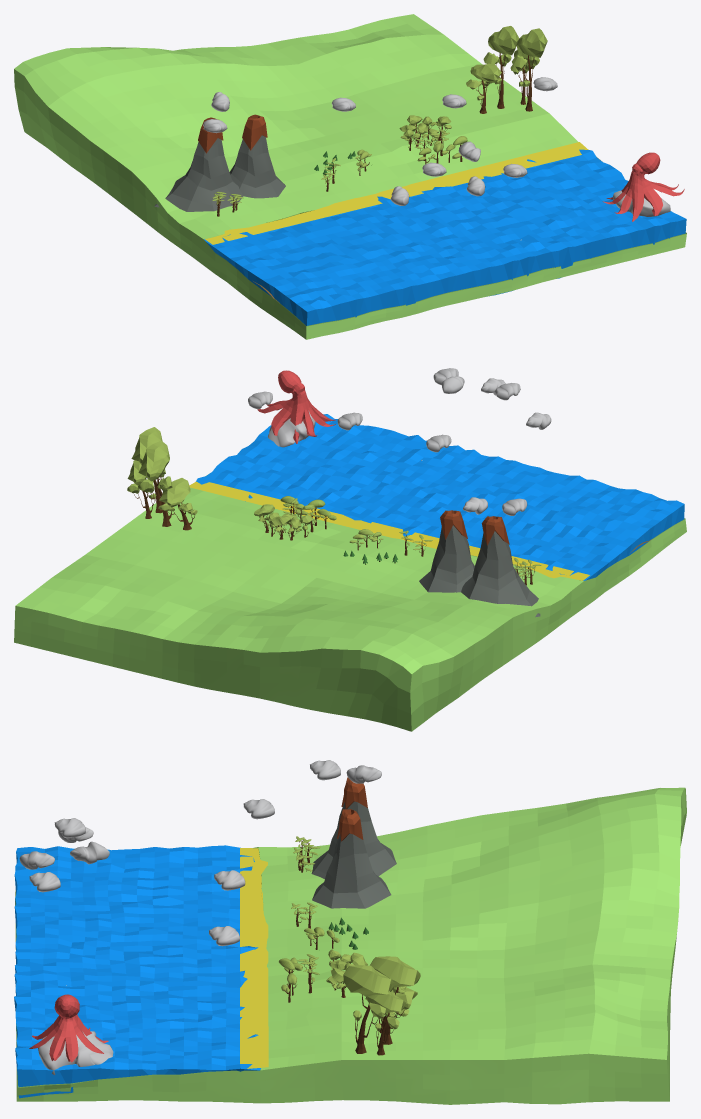
Rendered from land_final2_gltf.glb.
3 renders of one model, top to bottom at view 1: azimuth 30°, elevation 25°; view 2: azimuth 150°, elevation 25°; view 3: azimuth 270°, elevation 25°, orthographic. The views are drawn at different scales.
Visible parts, largest first — view 1: ground, seaWater, Plane, vulkaan|vulkaanTop_L_cyclus_vulkaan_model_v001.blend|Dupli|, vulkaan|vulkaanTop_L_cyclus_vulkaan_model_v001.blend|Dupli|., Mesh_0, boom4.005|CS_boom4_L_cyclus_boom4_model_v001.blend|Dupli|.00 (×2), boom4.005|CS_boom4_L_cyclus_boom4_model_v001.blend|Dupli|; view 2: ground, seaWater, vulkaan|vulkaanTop_L_cyclus_vulkaan_model_v001.blend|Dupli|, boom4.005|CS_boom4_L_cyclus_boom4_model_v001.blend|Dupli|.00 (×3), Plane, vulkaan|vulkaanTop_L_cyclus_vulkaan_model_v001.blend|Dupli|., Mesh_0, boom4.005|CS_boom4_L_cyclus_boom4_model_v001.blend|Dupli|, cloud.001|CS_wolk_L_cyclus_wolk_v001.blend|Dupli|.003; view 3: ground, seaWater, Plane, vulkaan|vulkaanTop_L_cyclus_vulkaan_model_v001.blend|Dupli|., vulkaan|vulkaanTop_L_cyclus_vulkaan_model_v001.blend|Dupli|, boom4.005|CS_boom4_L_cyclus_boom4_model_v001.blend|Dupli|.00 (×2), Mesh_0, boom4.005|CS_boom4_L_cyclus_boom4_model_v001.blend|Dupli|, cloud.001|CS_wolk_L_cyclus_wolk_v001.blend|Dupli|.003, cloud.002|CS_wolk_L_cyclus_wolk_v001.blend|Dupli|.
Boxes of the visible parts, x1=… form: ground: x1=14, y1=14, x2=686, y2=339; seaWater: x1=204, y1=149, x2=686, y2=325; Plane: x1=205, y1=142, x2=588, y2=244; vulkaan|vulkaanTop_L_cyclus_vulkaan_model_v001.blend|Dupli|: x1=154, y1=117, x2=243, y2=211; vulkaan|vulkaanTop_L_cyclus_vulkaan_model_v001.blend|Dupli|.: x1=229, y1=114, x2=285, y2=198; Mesh_0: x1=602, y1=152, x2=684, y2=221; boom4.005|CS_boom4_L_cyclus_boom4_model_v001.blend|Dupli|.00 (×2): x1=466, y1=26, x2=519, y2=113; boom4.005|CS_boom4_L_cyclus_boom4_model_v001.blend|Dupli|: x1=512, y1=28, x2=547, y2=111; ground: x1=14, y1=475, x2=686, y2=731; seaWater: x1=196, y1=414, x2=684, y2=580; vulkaan|vulkaanTop_L_cyclus_vulkaan_model_v001.blend|Dupli|: x1=461, y1=516, x2=540, y2=617; boom4.005|CS_boom4_L_cyclus_boom4_model_v001.blend|Dupli|.00 (×3): x1=127, y1=440, x2=197, y2=530; Plane: x1=189, y1=481, x2=589, y2=580; vulkaan|vulkaanTop_L_cyclus_vulkaan_model_v001.blend|Dupli|.: x1=419, y1=510, x2=474, y2=592; Mesh_0: x1=257, y1=370, x2=335, y2=443; boom4.005|CS_boom4_L_cyclus_boom4_model_v001.blend|Dupli|: x1=131, y1=427, x2=165, y2=513; cloud.001|CS_wolk_L_cyclus_wolk_v001.blend|Dupli|.003: x1=267, y1=410, x2=315, y2=447; ground: x1=15, y1=787, x2=686, y2=1104; seaWater: x1=14, y1=845, x2=260, y2=1098; Plane: x1=240, y1=848, x2=268, y2=1068; vulkaan|vulkaanTop_L_cyclus_vulkaan_model_v001.blend|Dupli|.: x1=312, y1=809, x2=391, y2=908; vulkaan|vulkaanTop_L_cyclus_vulkaan_model_v001.blend|Dupli|: x1=311, y1=777, x2=396, y2=878; boom4.005|CS_boom4_L_cyclus_boom4_model_v001.blend|Dupli|.00 (×2): x1=368, y1=956, x2=420, y2=1055; Mesh_0: x1=29, y1=994, x2=108, y2=1062; boom4.005|CS_boom4_L_cyclus_boom4_model_v001.blend|Dupli|: x1=343, y1=965, x2=394, y2=1053; cloud.001|CS_wolk_L_cyclus_wolk_v001.blend|Dupli|.003: x1=38, y1=1031, x2=113, y2=1074; cloud.002|CS_wolk_L_cyclus_wolk_v001.blend|Dupli|: x1=70, y1=841, x2=109, y2=864.
Bounding box in the file's own units: 264 × 83.2 × 312.
